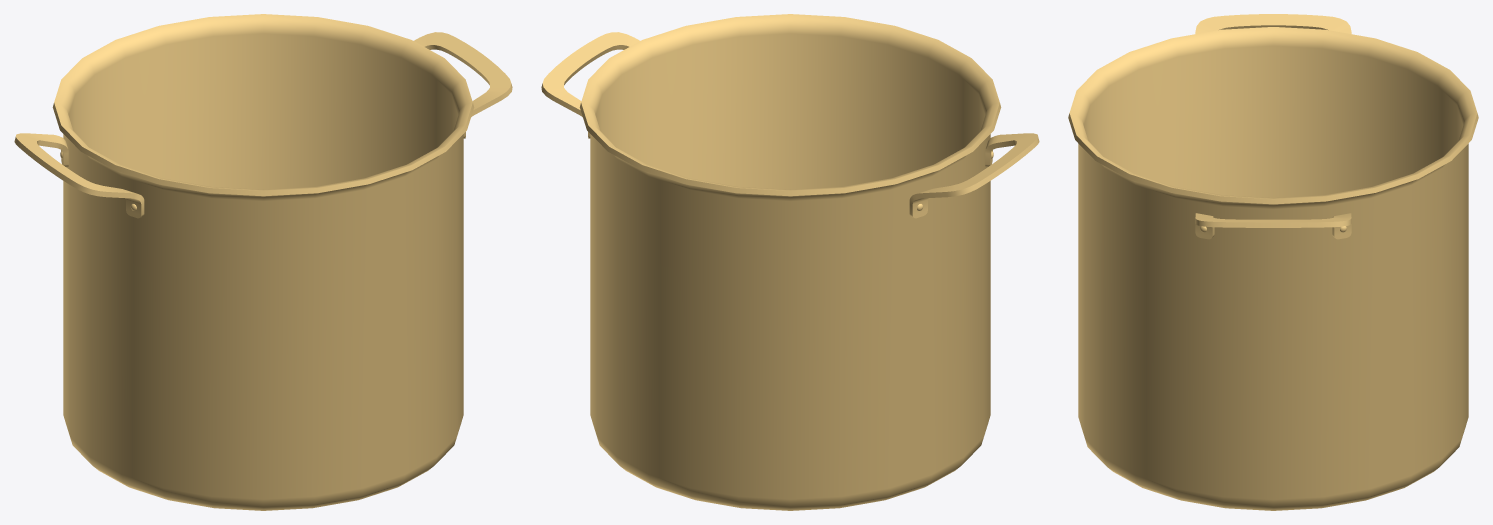
The model's file is SM_Pot_Large_01.fbx.
3 views of the same model, side by side, from view 1: azimuth 30°, elevation 25°; view 2: azimuth 150°, elevation 25°; view 3: azimuth 270°, elevation 25° (orthographic). The views are drawn at different scales.
Visible parts, largest first — view 1: SM_Pot_Large_01; view 2: SM_Pot_Large_01; view 3: SM_Pot_Large_01.
Part boxes in pixels (<box>): SM_Pot_Large_01: <box>14,14,512,510</box>; SM_Pot_Large_01: <box>541,14,1039,510</box>; SM_Pot_Large_01: <box>1068,14,1478,510</box>.
Size of the model in its own units: 47.29 by 33.85 by 39.11.
